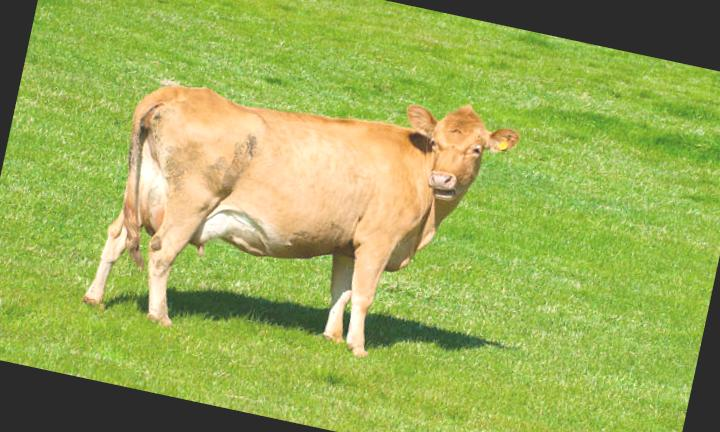Charolais: (85, 88, 520, 356)
